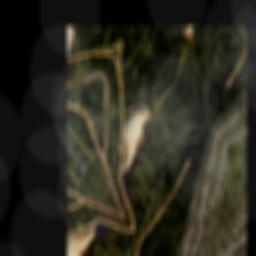Cuckoo: (96, 94, 174, 220)
